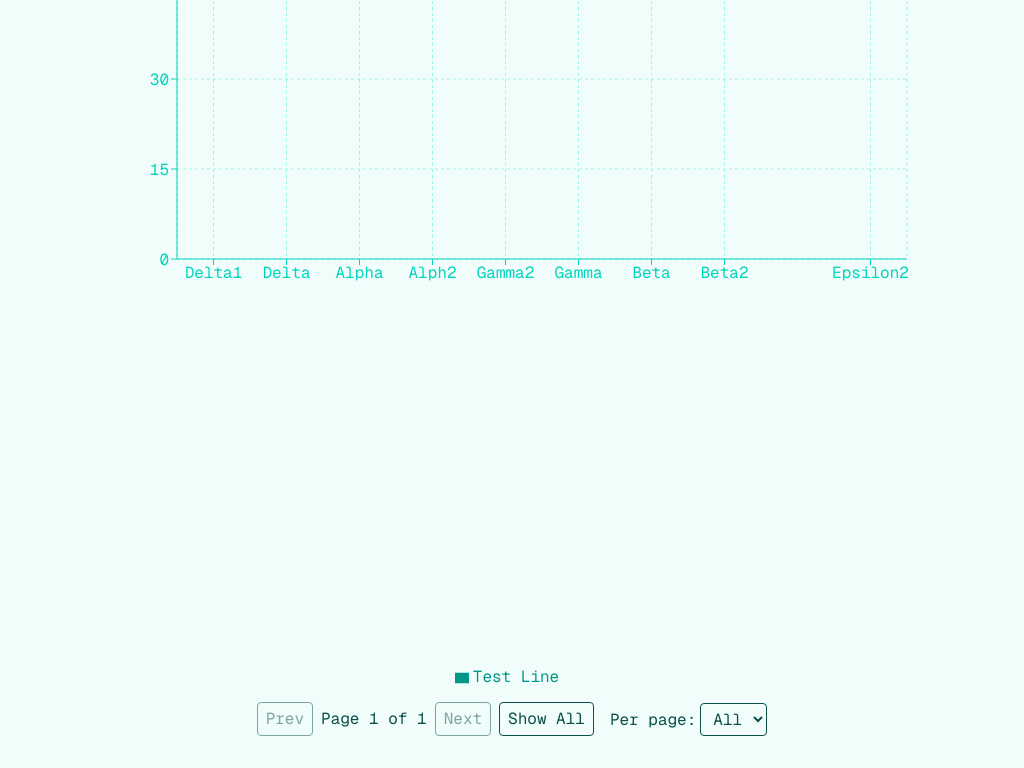
Test: AppBar › changes page and page size
(page scrolled)
# Change page size using the select dropdown enabling pagination
Select "3" in the dropdown labelled "Per page:" at (734, 719), box top-left (700, 702), bottom-right (767, 736)
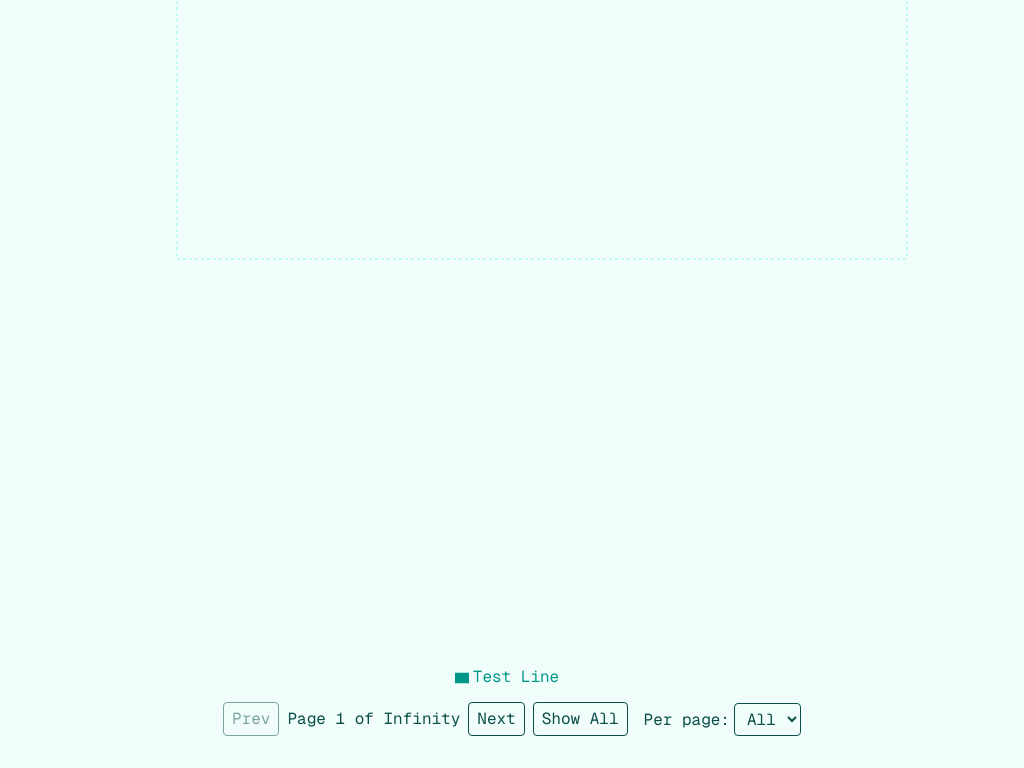
# Go to next page
Click the button "Next" at (496, 719), box top-left (468, 702), bottom-right (525, 736)
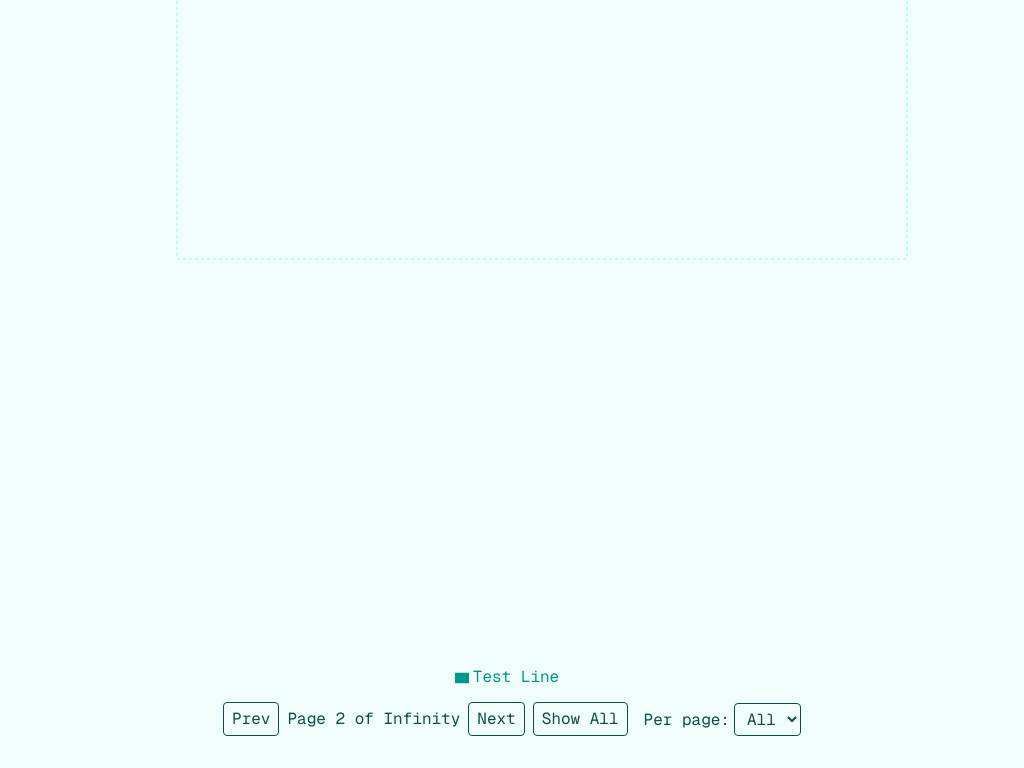
Expected: the text "Page 2 of" is shown, top-left (288, 707), bottom-right (460, 731)
# Go back to previous page
Click the button "Prev" at (251, 719), box top-left (223, 702), bottom-right (280, 736)
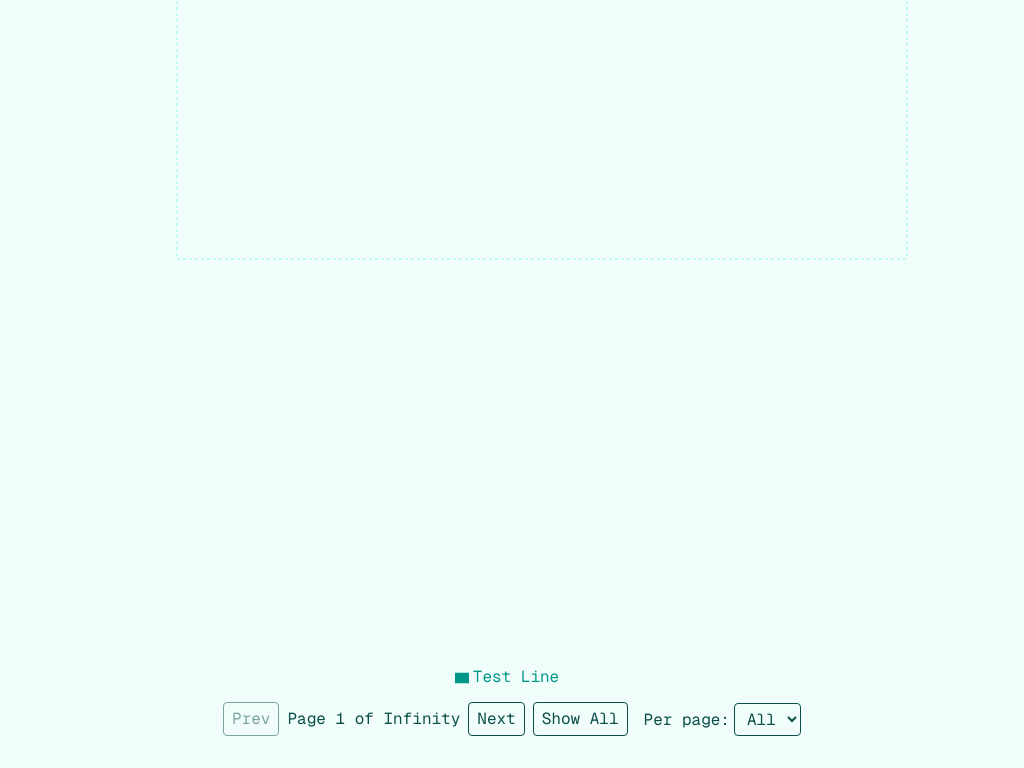
Expected: the text "Page 1 of" is shown, top-left (288, 707), bottom-right (460, 731)
# Change page size using the select dropdown
Select "All" in the dropdown labelled "Per page:" at (767, 719), box top-left (734, 702), bottom-right (801, 736)
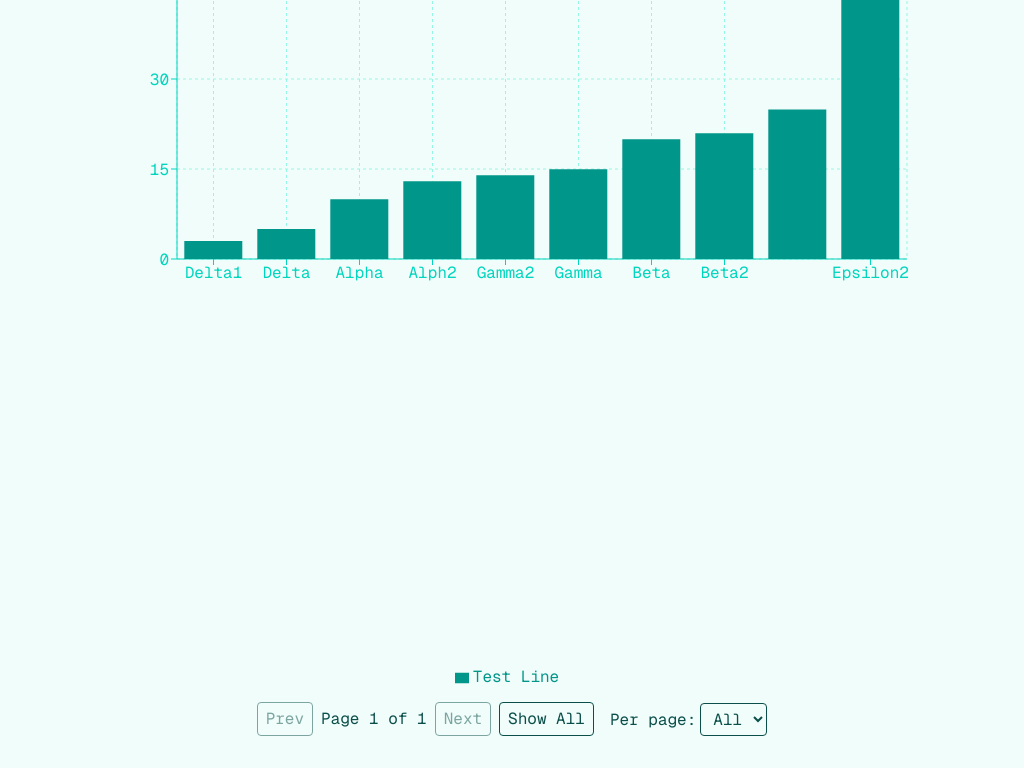
Expected: the text "Page 1 of 1" is shown, top-left (321, 707), bottom-right (427, 731)
